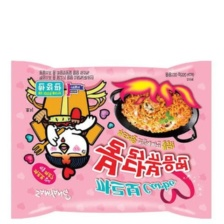snack: (0, 54, 224, 223)
